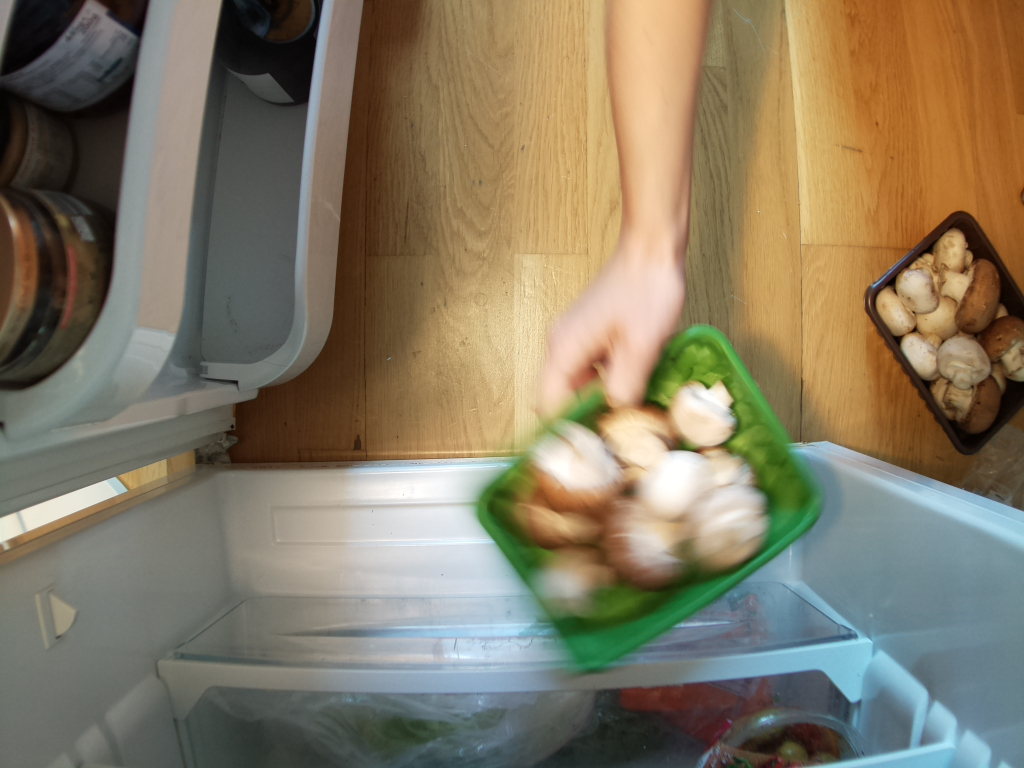mushrooms: (478, 351, 799, 621), (862, 214, 1024, 446)
